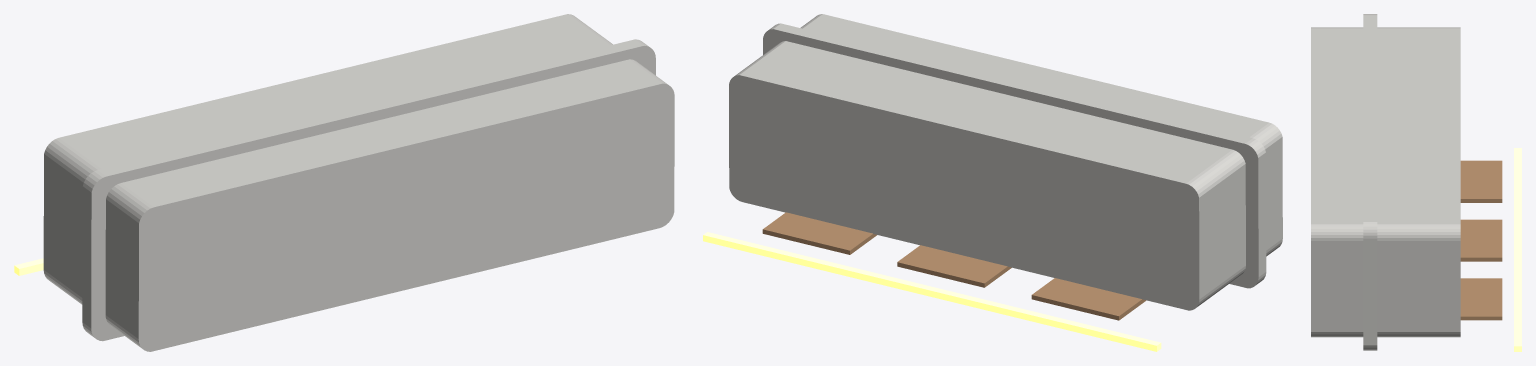
File: PANTRY_COUNTER_MARBLE_HERO_001.glb
3 renders of one model, left to right at view 1: azimuth 30°, elevation 25°; view 2: azimuth 150°, elevation 25°; view 3: azimuth 270°, elevation 25°, orthographic. The views are drawn at different scales.
Visible parts, largest first — view 1: counter_body_000, counter_top_001; view 2: counter_body_000, counter_top_001, kick_light_005, cabinet_front_002, cabinet_front_004, cabinet_front_003; view 3: counter_body_000, counter_top_001, cabinet_front_002, cabinet_front_003, cabinet_front_004, kick_light_005.
Boxes of the visible parts, x1,y1,x2,y2 form: counter_body_000: [43, 14, 674, 351]; counter_top_001: [82, 39, 655, 341]; counter_body_000: [729, 14, 1282, 310]; counter_top_001: [763, 23, 1266, 288]; kick_light_005: [703, 232, 1161, 351]; cabinet_front_002: [1031, 278, 1146, 320]; cabinet_front_004: [762, 212, 876, 254]; cabinet_front_003: [897, 245, 1011, 287]; counter_body_000: [1311, 27, 1460, 337]; counter_top_001: [1363, 14, 1377, 350]; cabinet_front_002: [1460, 160, 1502, 202]; cabinet_front_003: [1460, 219, 1502, 261]; cabinet_front_004: [1460, 278, 1502, 320]; kick_light_005: [1514, 148, 1521, 351].
Size of the model in its own units: 2.95 by 0.8575 by 1.21.
